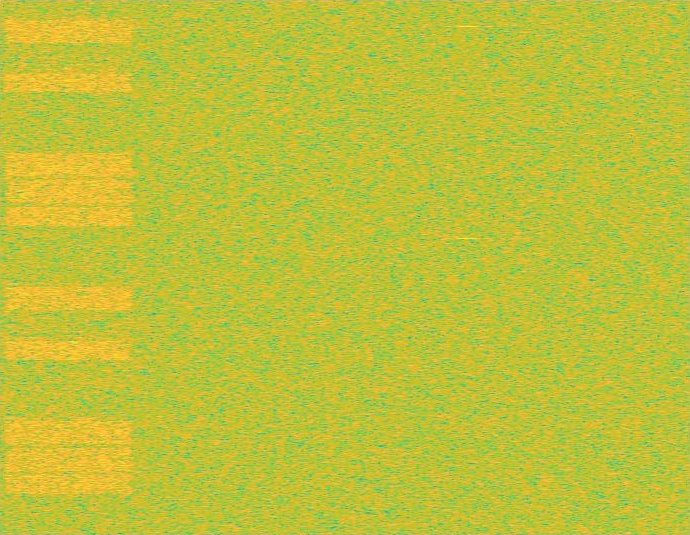LTE: (0, 0, 138, 534)
Radar: (461, 0, 475, 534)
